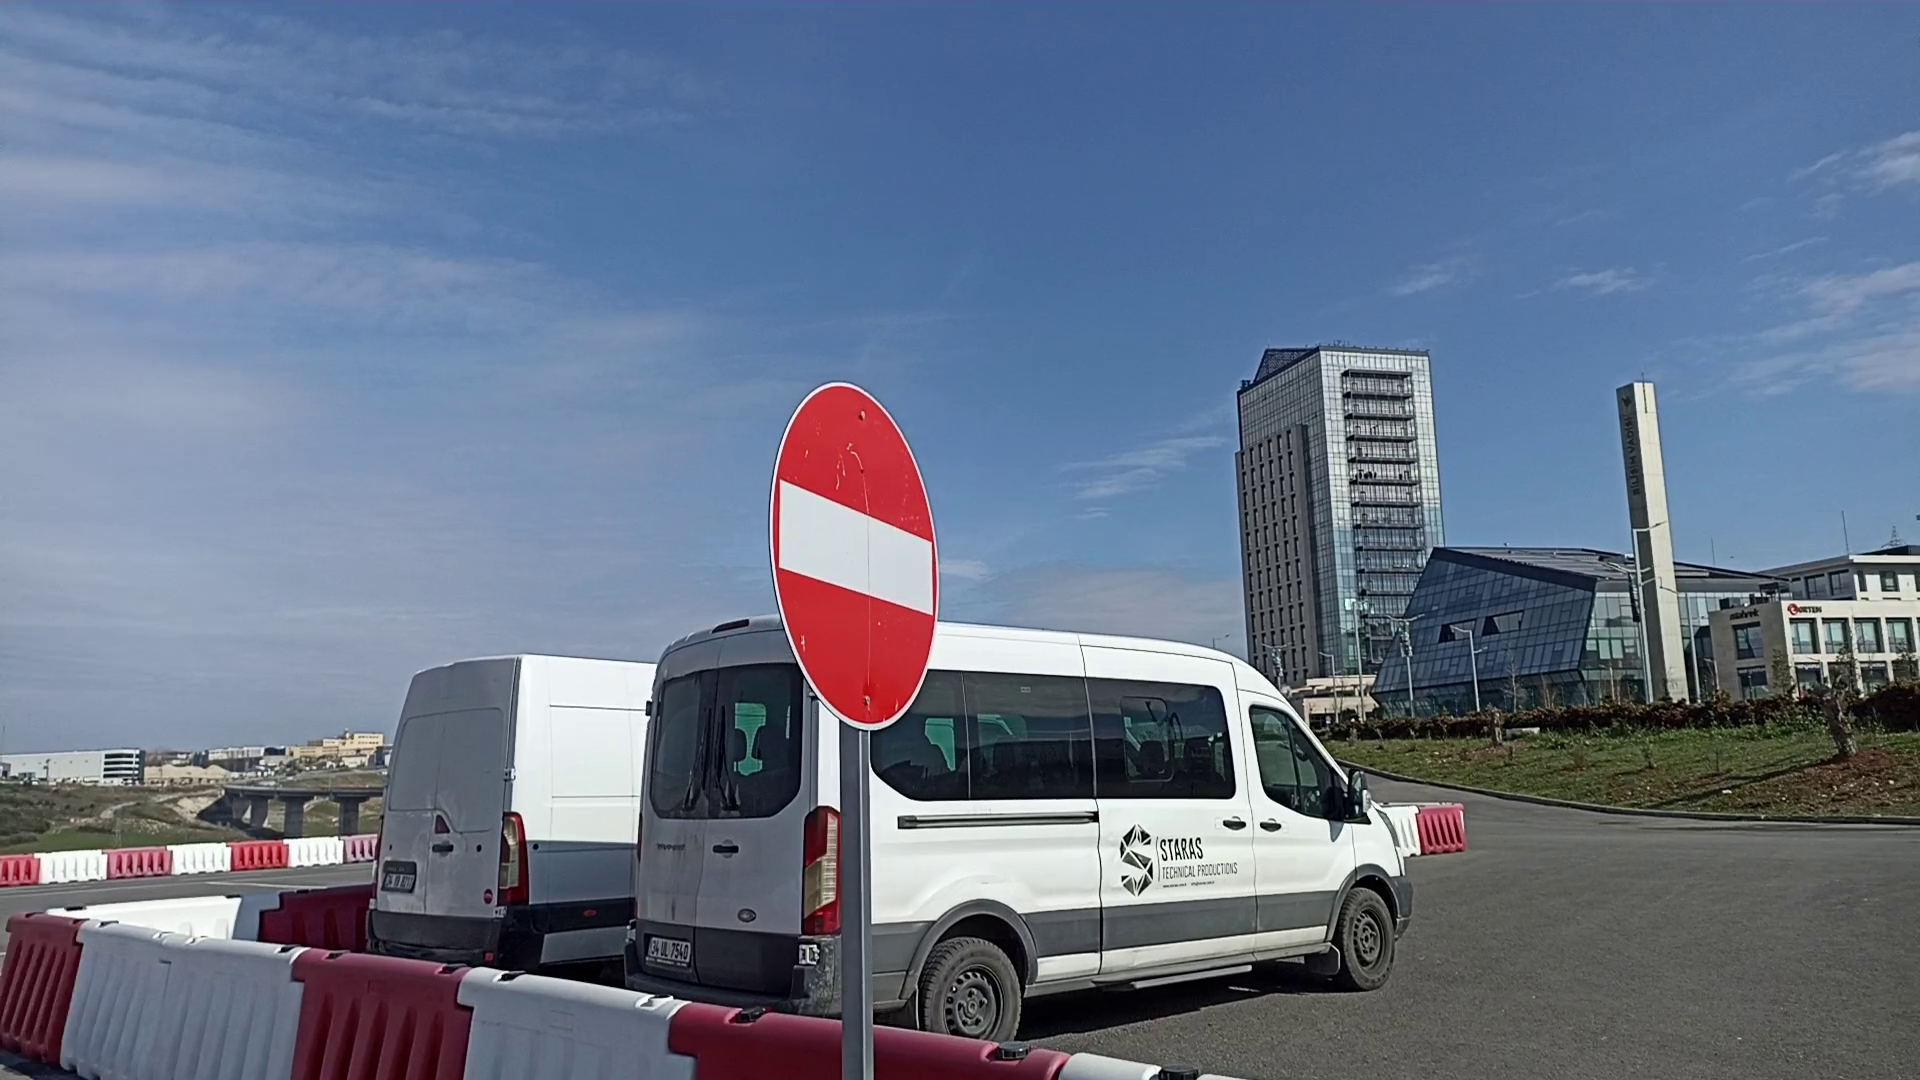noentryway: (765, 373, 947, 735)
